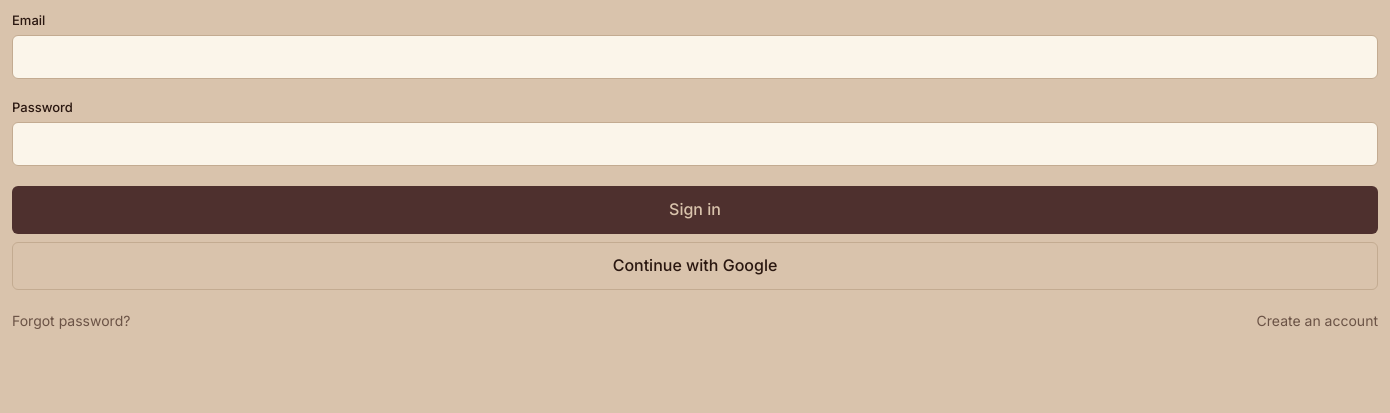
Test: SignInForm › humanizes auth/user-disabled (banned account) on sign-in
This screenshot has width=1390, height=413.
Type "banned@example.com" into the field labelled "Email" at (695, 57), box [12, 35, 1378, 79]
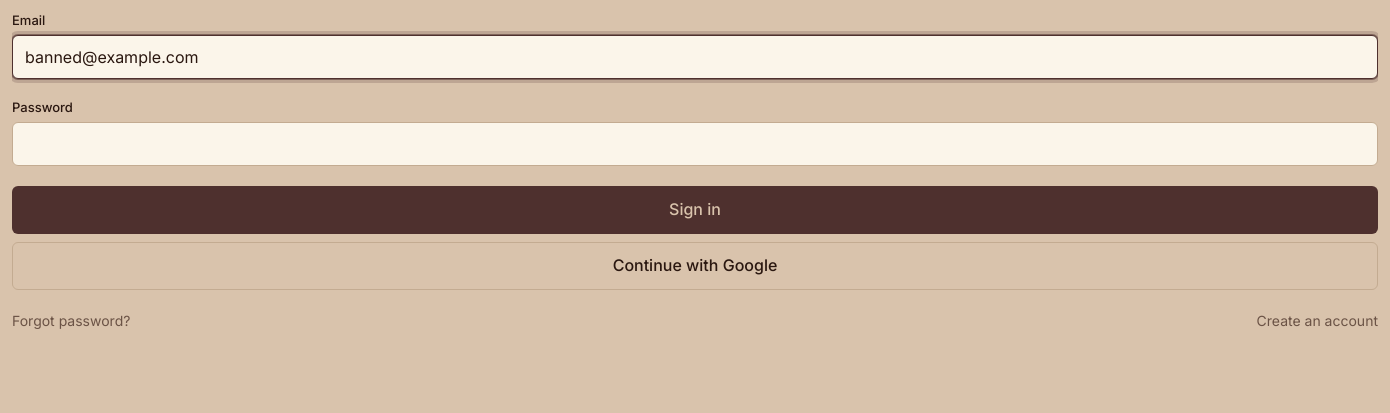
Type "anything12!a" into the password field labelled "Password" at (695, 144), box [12, 122, 1378, 166]
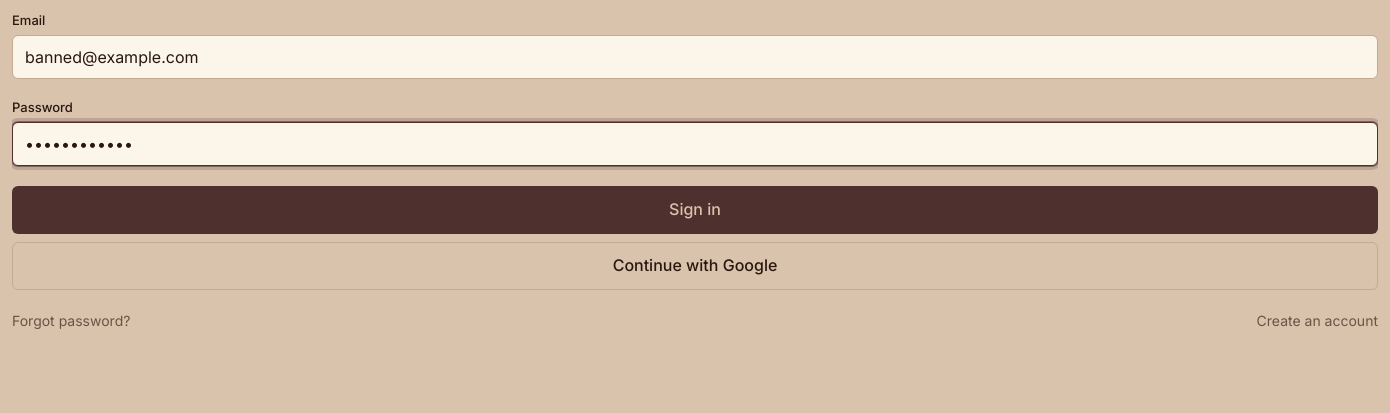
Click the button "Sign in" at (695, 210), box [12, 186, 1378, 234]
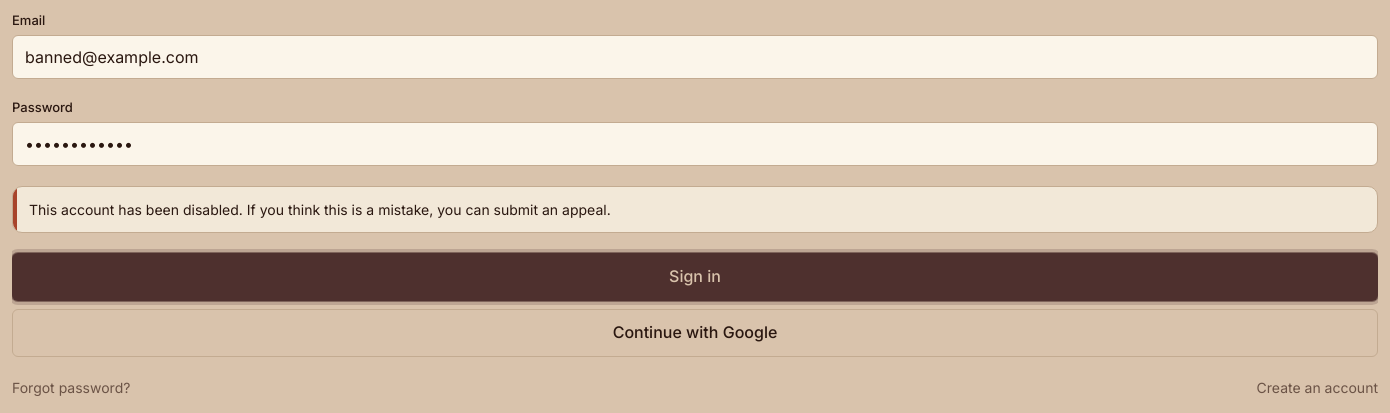
Check: the text "account has been disabled" is shown, box [29, 201, 611, 218]
